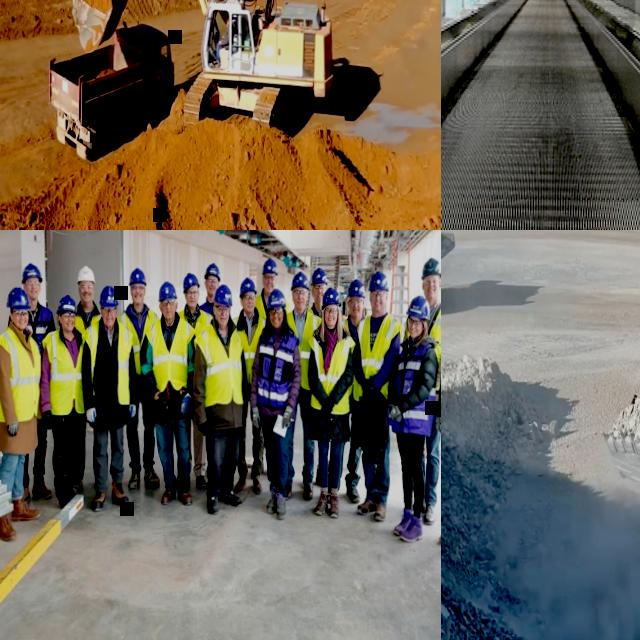Hardhat: (321, 284, 344, 332), (405, 293, 432, 321), (6, 287, 31, 310), (420, 256, 441, 279), (214, 283, 233, 307), (100, 286, 120, 308), (56, 295, 78, 315), (22, 263, 43, 283), (345, 278, 365, 299), (77, 265, 97, 285), (159, 280, 179, 300), (369, 271, 389, 291), (322, 285, 342, 305), (267, 288, 287, 308), (291, 271, 310, 291), (240, 277, 258, 298), (130, 266, 148, 286), (183, 271, 200, 292), (262, 256, 279, 276), (205, 262, 222, 282), (311, 267, 329, 285)
NO-Hardhat: (228, 19, 231, 24)
NO-Mask: (424, 285, 440, 299), (371, 301, 387, 313), (215, 314, 230, 326), (102, 316, 118, 327), (160, 309, 177, 319), (294, 299, 308, 311), (271, 316, 284, 328), (28, 287, 40, 299), (244, 300, 256, 312), (264, 281, 276, 293), (325, 316, 337, 328), (81, 291, 95, 301), (132, 293, 145, 303), (15, 319, 29, 328), (187, 297, 199, 307), (351, 308, 363, 318), (207, 286, 218, 296), (409, 326, 419, 336), (64, 322, 75, 330), (315, 294, 325, 302)
NO-Safety Vest: (225, 27, 235, 47)
Person: (193, 282, 251, 514), (139, 278, 197, 506), (386, 293, 439, 540), (352, 270, 402, 522), (249, 286, 302, 517), (8, 262, 56, 499), (81, 284, 130, 512), (0, 286, 43, 541), (308, 284, 355, 517), (404, 256, 441, 524), (118, 265, 162, 489), (40, 294, 86, 506), (328, 278, 369, 503), (284, 271, 324, 499), (176, 269, 213, 486), (231, 275, 267, 493), (308, 266, 339, 486), (73, 264, 103, 490), (254, 256, 290, 324), (199, 261, 222, 317), (215, 18, 230, 68)
Safety Vest: (354, 311, 404, 401), (309, 325, 356, 414), (394, 339, 436, 437), (194, 322, 244, 403), (0, 329, 41, 421), (42, 329, 85, 415), (257, 325, 300, 410), (404, 299, 441, 393), (147, 317, 194, 391), (287, 308, 322, 390), (119, 308, 157, 376), (231, 315, 266, 383), (342, 311, 367, 394), (26, 306, 52, 348), (256, 295, 290, 327), (181, 308, 213, 334), (307, 305, 324, 329), (76, 315, 93, 331), (200, 303, 214, 316)
vehicle: (68, 0, 337, 130), (49, 19, 176, 162), (600, 343, 640, 590)
